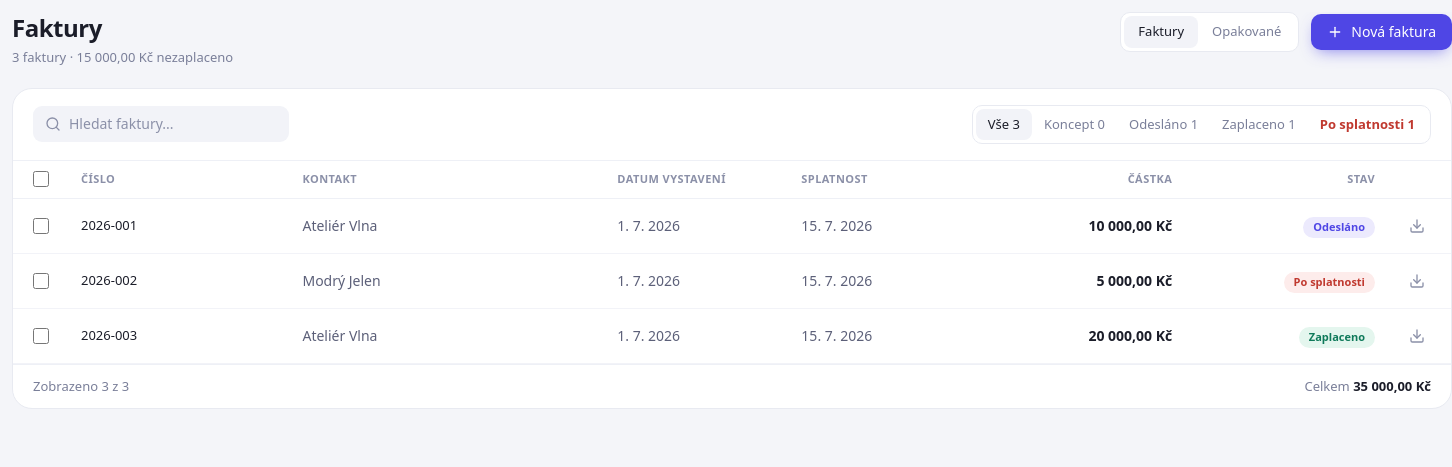
Test: Invoices › shows the bulk bar when rows are selected and marks them paid
The width and height of the screenshot is (1452, 467).
Note: Row checkboxes are labelled with the invoice number
Click the checkbox named "2026-001".
click(41, 226)  # box x1=33 y1=218 x2=49 y2=234
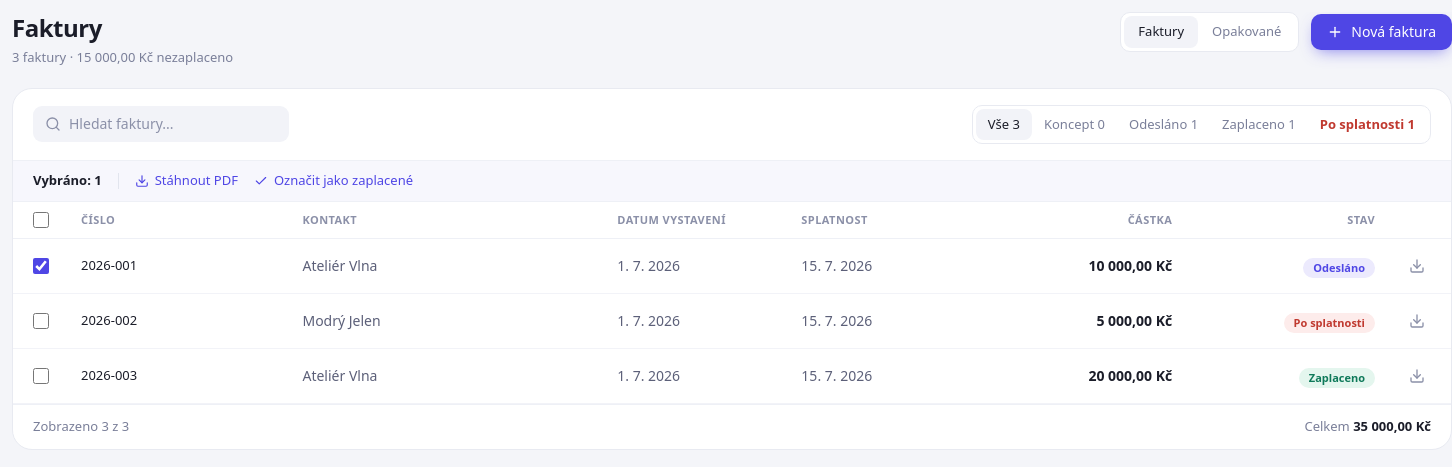
Click the checkbox named "2026-002".
click(41, 321)  # box x1=33 y1=313 x2=49 y2=329
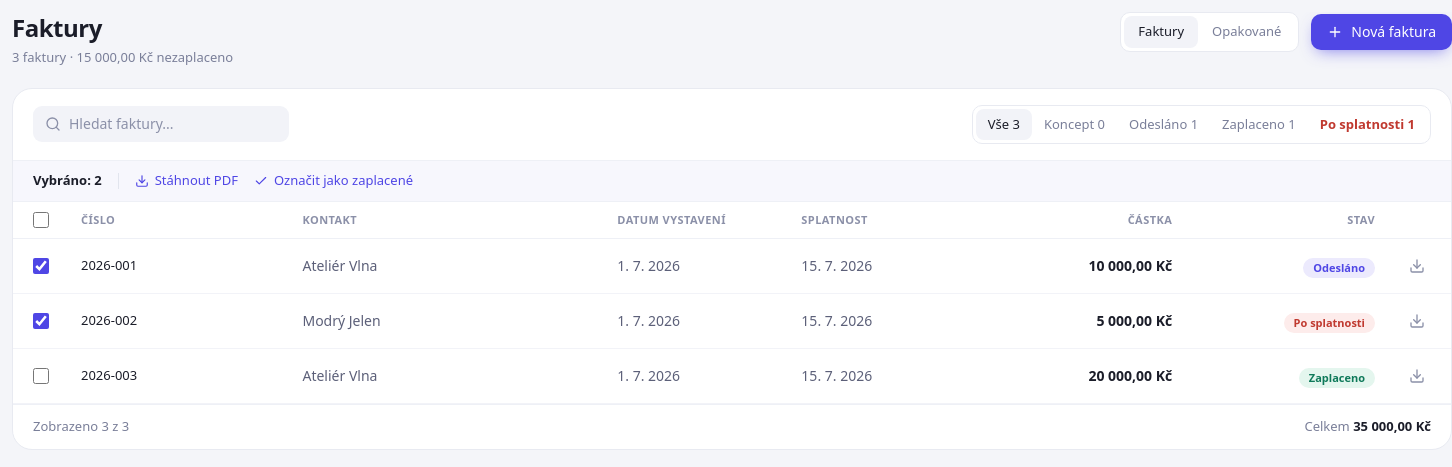
Now the text "Vybráno: 2" is shown, box x1=33 y1=171 x2=102 y2=190
Click the button "Označit jako zaplacené".
click(334, 181)  # box x1=254 y1=171 x2=413 y2=190
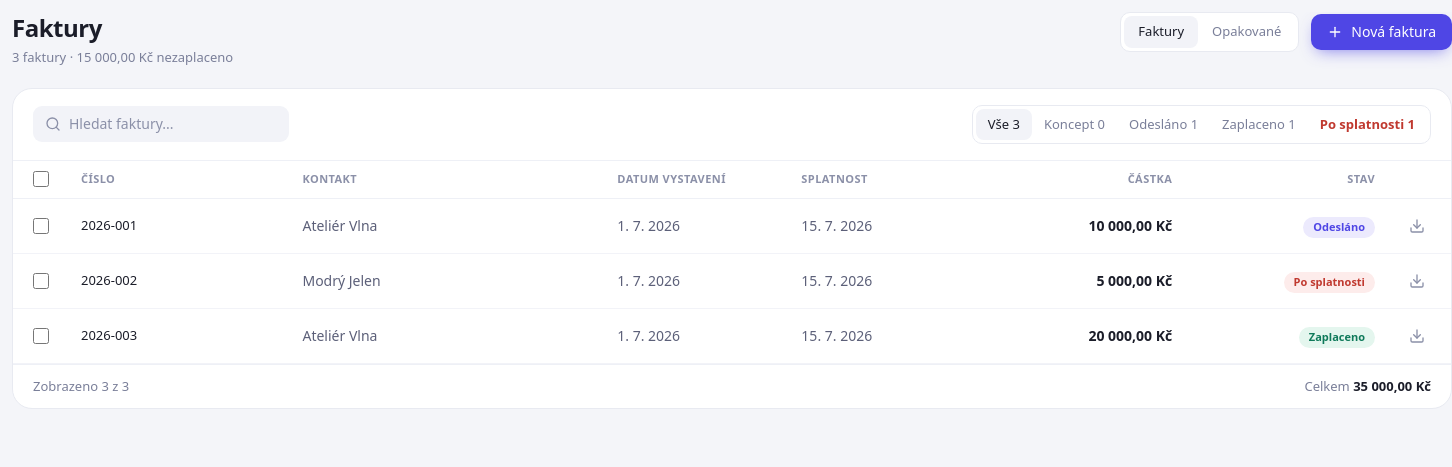
Now the text "Vybráno: 2" is gone
